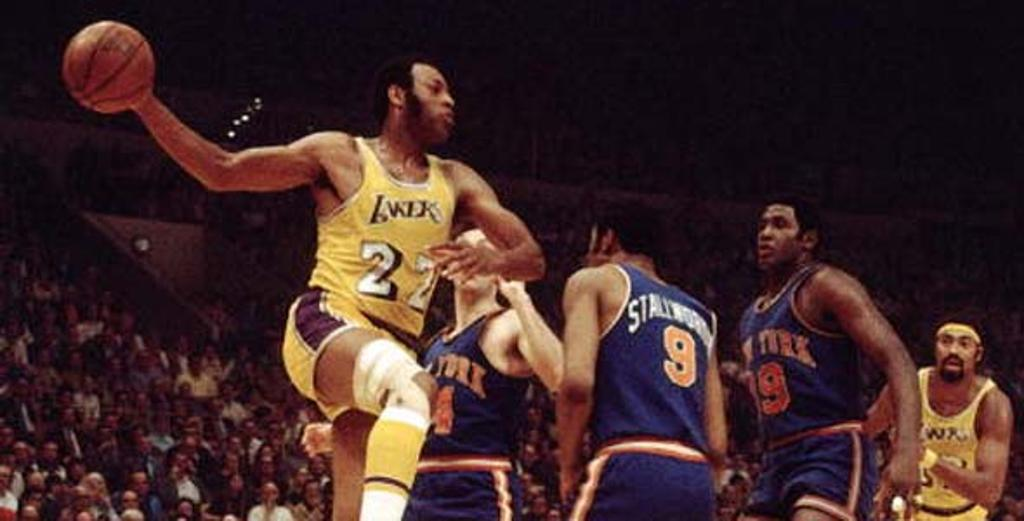face: (401, 60, 454, 145), (447, 227, 499, 290), (757, 205, 804, 269), (934, 323, 977, 378), (584, 222, 613, 276), (130, 471, 148, 496), (121, 491, 137, 512), (304, 482, 320, 502), (177, 501, 193, 520), (262, 483, 277, 503), (172, 453, 187, 473), (73, 488, 87, 509), (310, 455, 324, 475), (182, 438, 196, 456), (225, 453, 238, 472), (260, 456, 273, 474), (154, 416, 167, 434), (105, 414, 118, 432), (229, 474, 243, 490), (261, 446, 274, 463), (89, 484, 102, 501), (296, 468, 309, 485), (28, 492, 41, 509), (229, 436, 241, 453), (268, 423, 280, 440), (97, 429, 110, 444), (70, 465, 82, 481), (222, 384, 234, 399), (140, 439, 152, 454), (133, 427, 144, 443), (59, 391, 71, 405), (64, 407, 75, 422), (117, 394, 128, 409), (152, 379, 163, 394), (39, 350, 50, 364), (30, 473, 40, 488), (139, 352, 149, 367), (70, 352, 80, 367), (44, 445, 55, 458), (211, 402, 222, 415), (87, 306, 98, 319), (249, 390, 260, 403), (81, 379, 91, 393), (177, 403, 187, 417), (109, 359, 119, 373), (245, 421, 254, 436), (287, 412, 297, 425), (17, 448, 26, 462), (136, 393, 145, 407), (190, 358, 199, 372), (17, 384, 26, 396), (307, 405, 315, 418), (206, 346, 214, 358), (181, 386, 189, 397)
